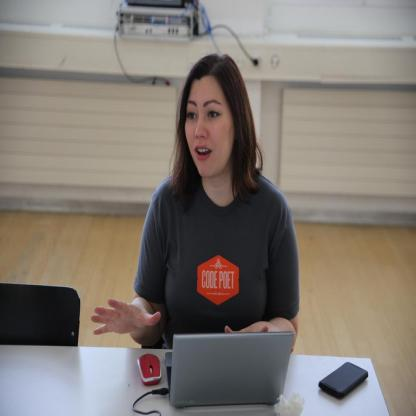board: (160, 325, 288, 409)
